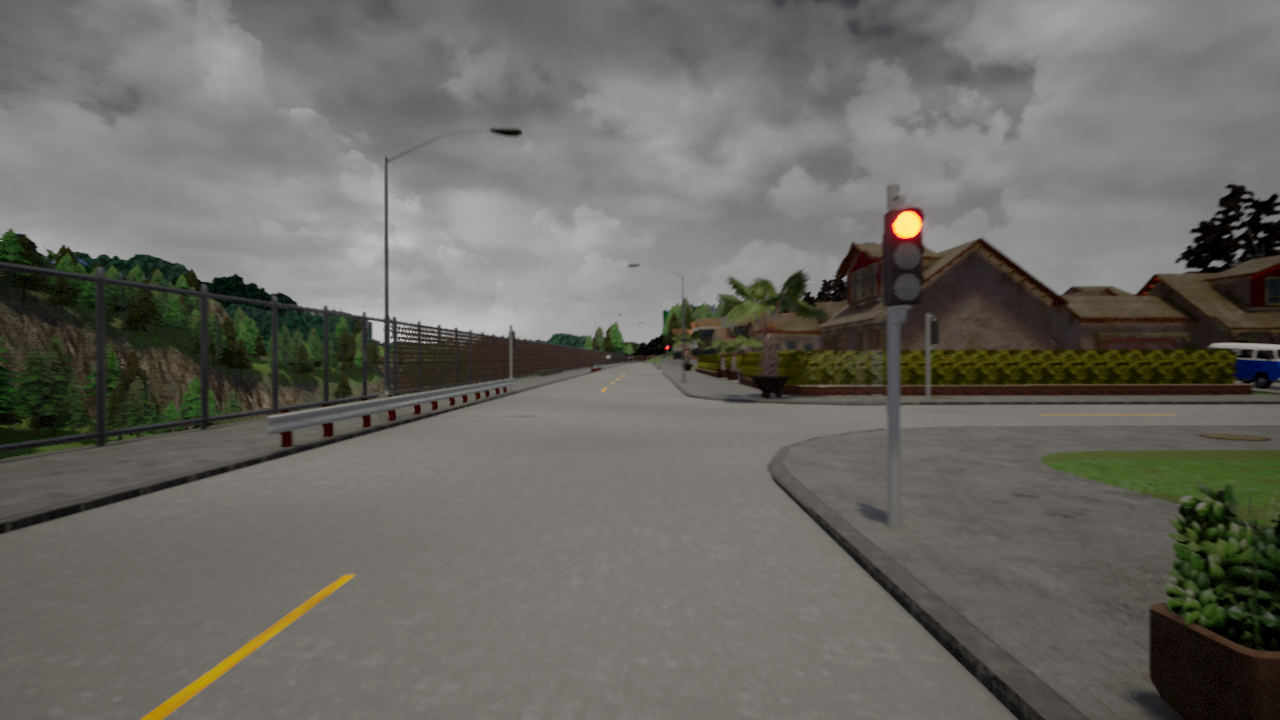red: (876, 208, 923, 306)
